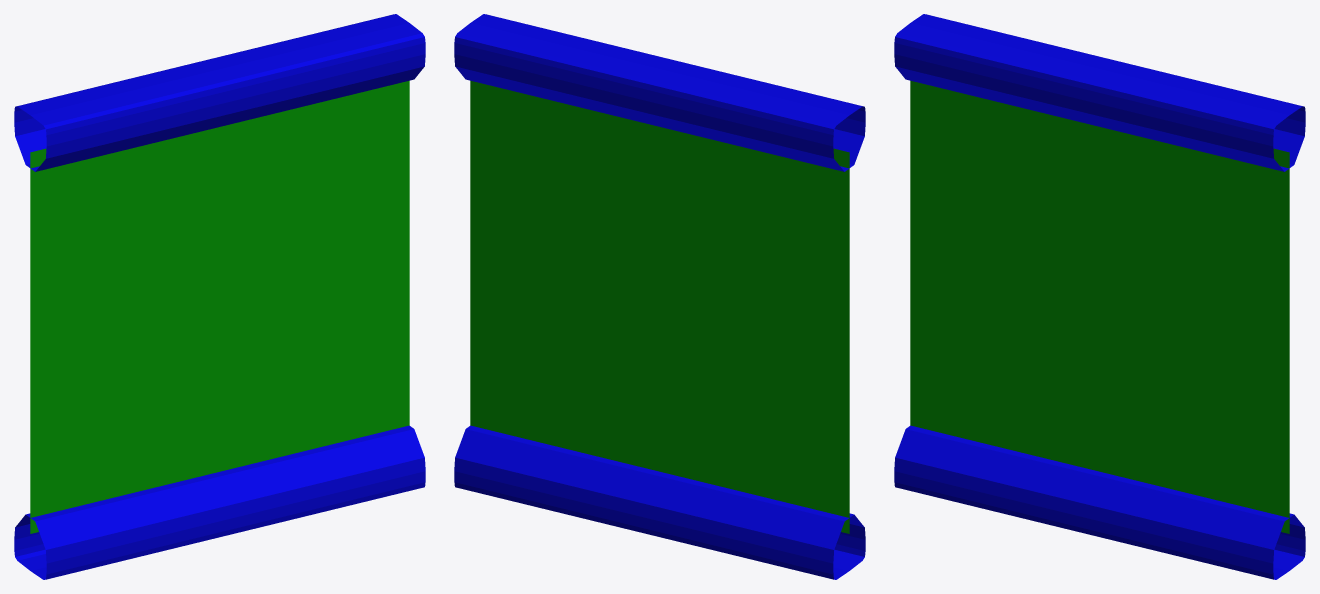
The model's file is MidWindow.fbx.
The picture shows the model from 3 angles, left to right: view 1: azimuth 30°, elevation 25°; view 2: azimuth 150°, elevation 25°; view 3: azimuth 330°, elevation 25°; orthographic projection.
Parts seen in each view (by area): view 1: Glass, Trim; view 2: Glass, Trim; view 3: Glass, Trim.
Part boxes in pixels (x1,y1,x2,y2): Glass: [30, 80, 409, 533]; Trim: [14, 14, 425, 579]; Glass: [470, 80, 849, 533]; Trim: [454, 14, 865, 579]; Glass: [910, 80, 1289, 533]; Trim: [894, 14, 1305, 579].
Size of the model in its own units: 6 by 6.89 by 0.888.
